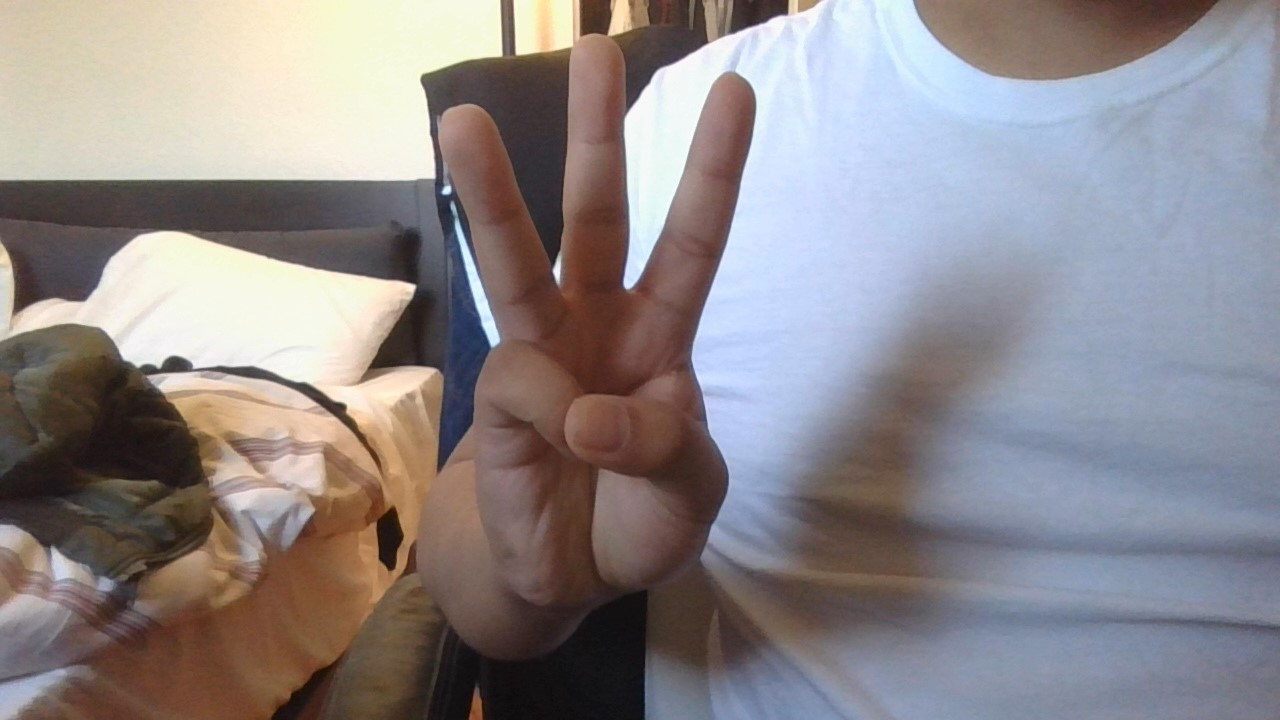w: (395, 27, 798, 642)
